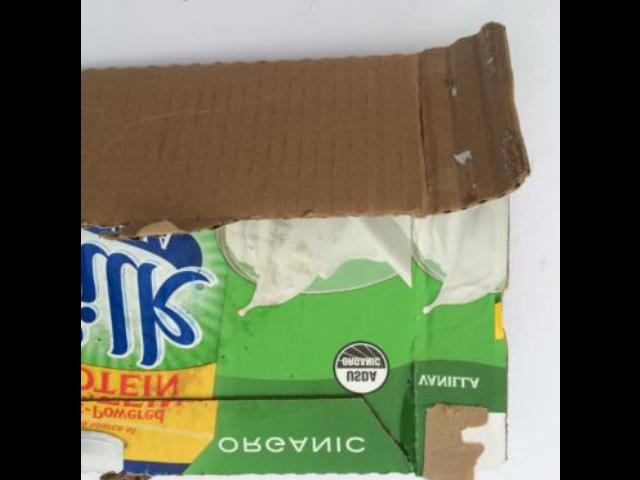cardboard paper: (80, 26, 529, 480), (80, 200, 508, 480), (80, 26, 530, 232)
